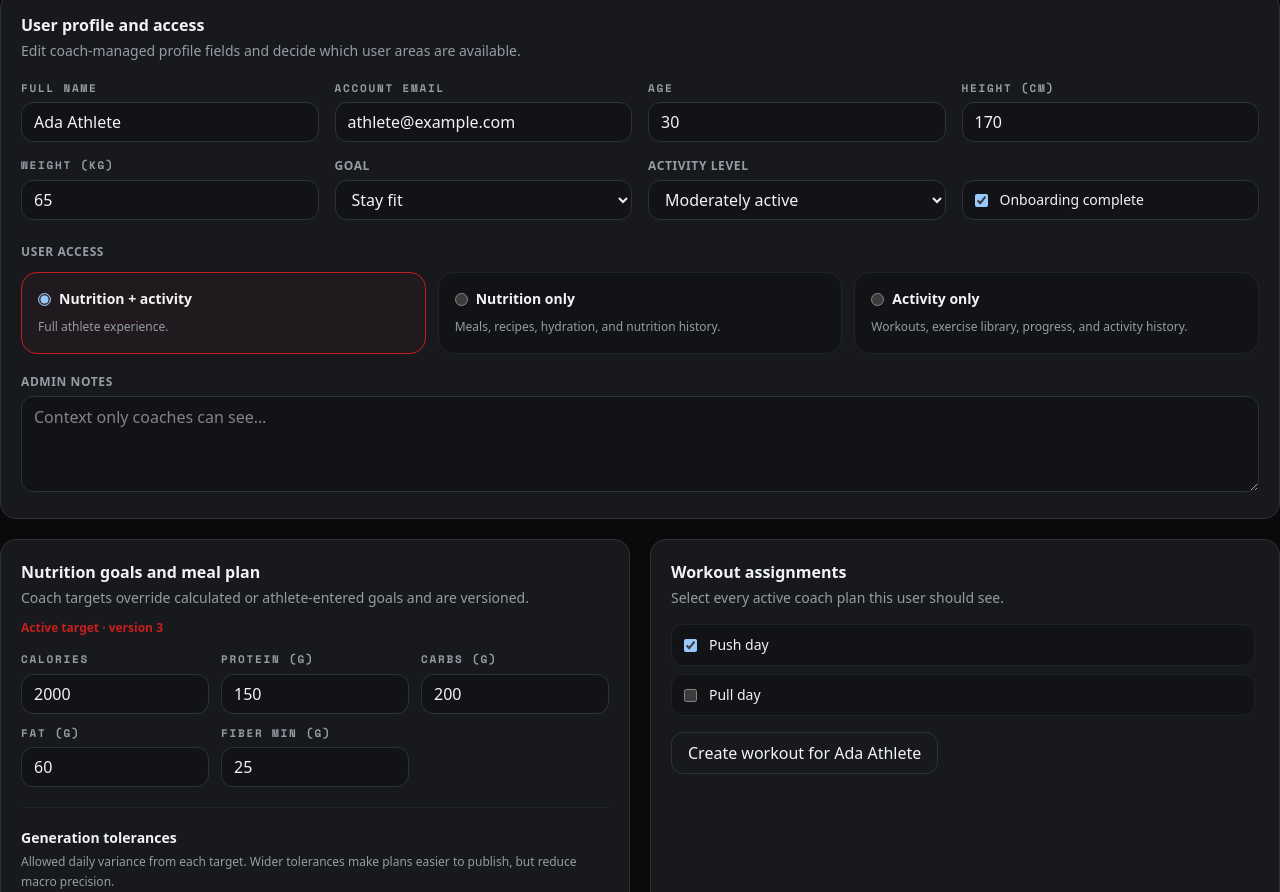
Test: AthleteManagementPanel › reports no dirty sections once every dirtied section has saved successfully
Replace the text in the field labelled "Full name" with "New Name": (170,122) [21,102,318,142]
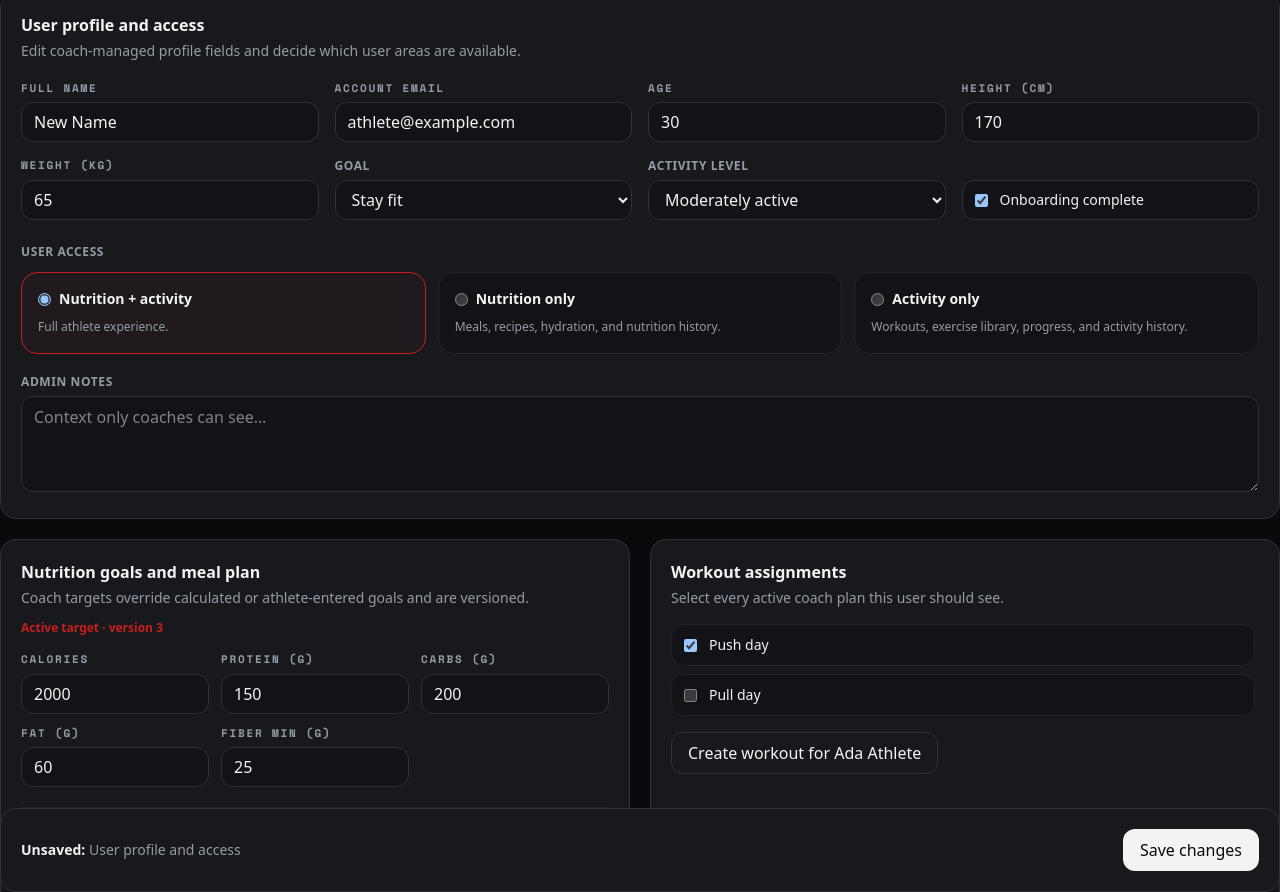
Replace the text in the number field labelled "Calories" with "2200": (115,694) [21,674,209,714]
(page scrolled)
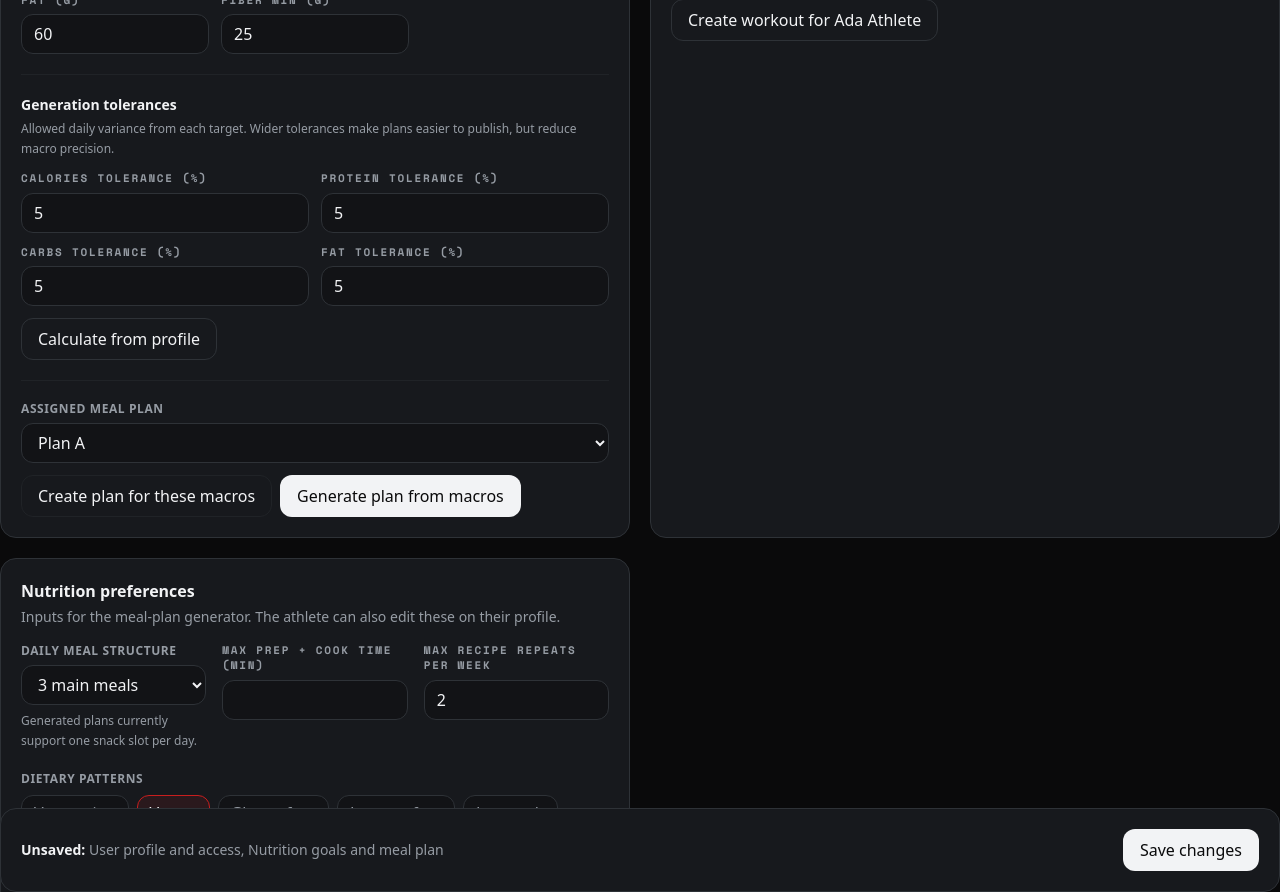
Select "Plan B" in the dropdown showing "Plan A": (315,443) [21,423,609,463]
(page scrolled)
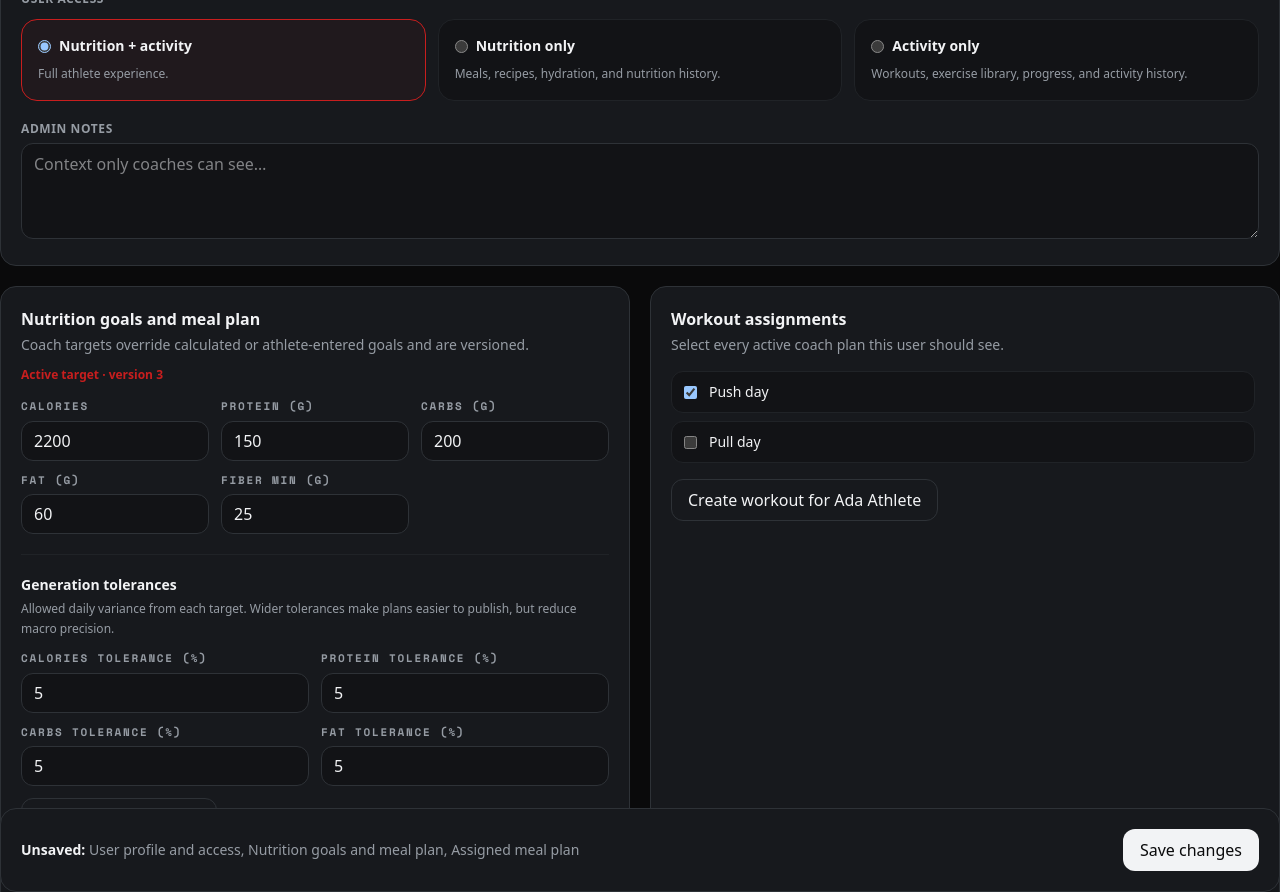
Click the checkbox labelled "Pull day": (690,442) [684,436,697,449]
(page scrolled)
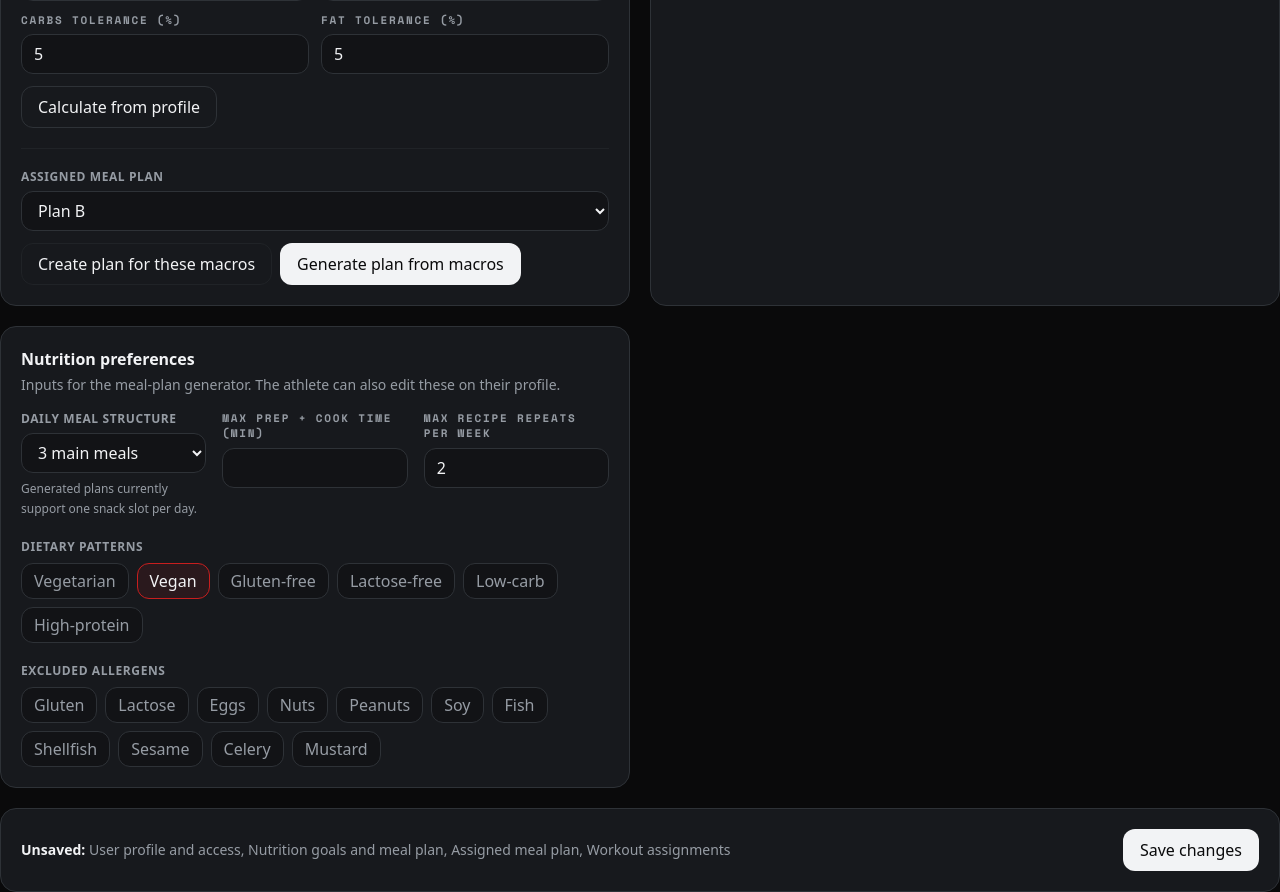
Replace the text in the number field labelled "Max recipe repeats per week" with "4": (516,468) [424,448,609,488]
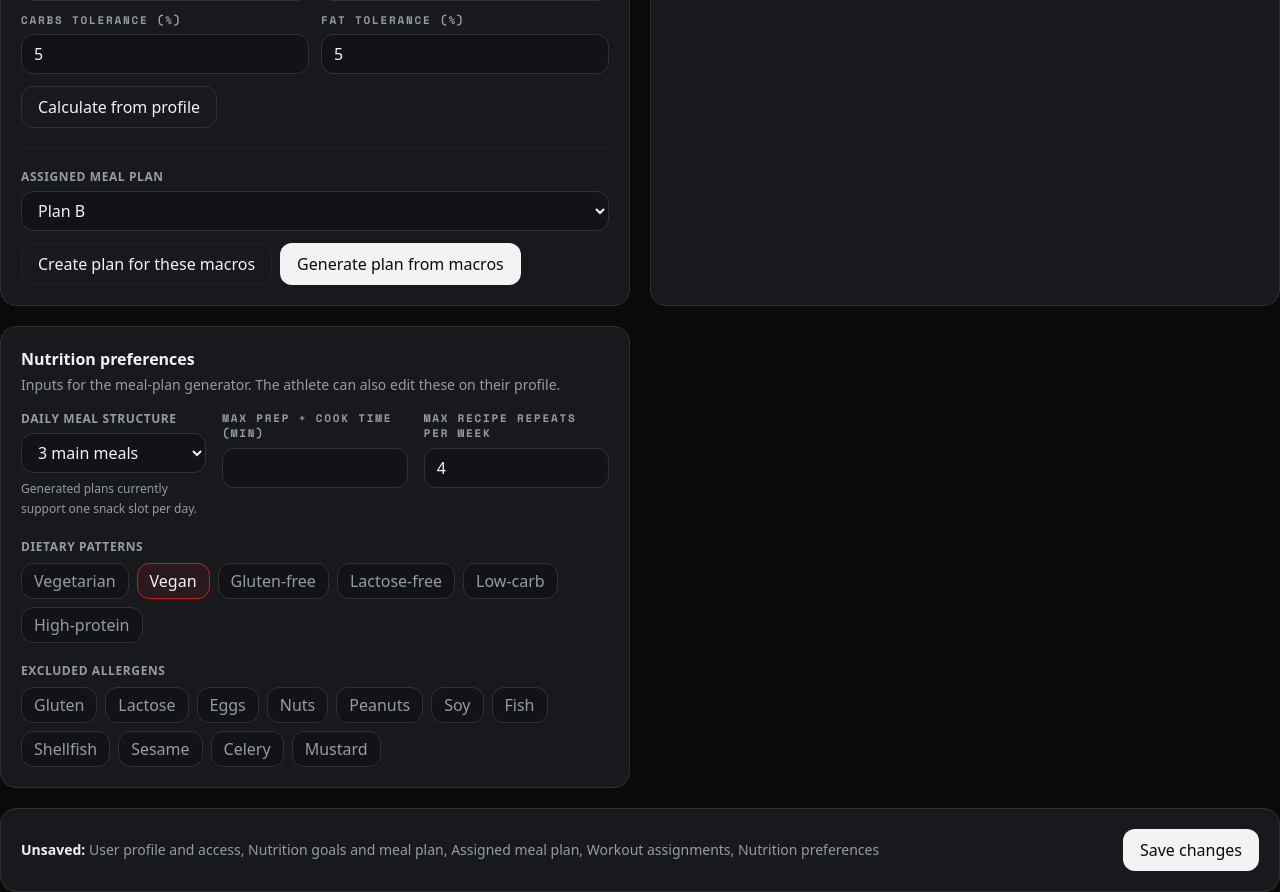
Result: the text "Unsaved:" shows "User profile and access" at [89,840,879,859]
Result: the text "Unsaved:" shows "Nutrition goals and meal plan" at [89,840,879,859]
Result: the text "Unsaved:" shows "Assigned meal plan" at [89,840,879,859]
Click the button "Save changes": (1191,850) [1123,829,1259,871]
(page scrolled)
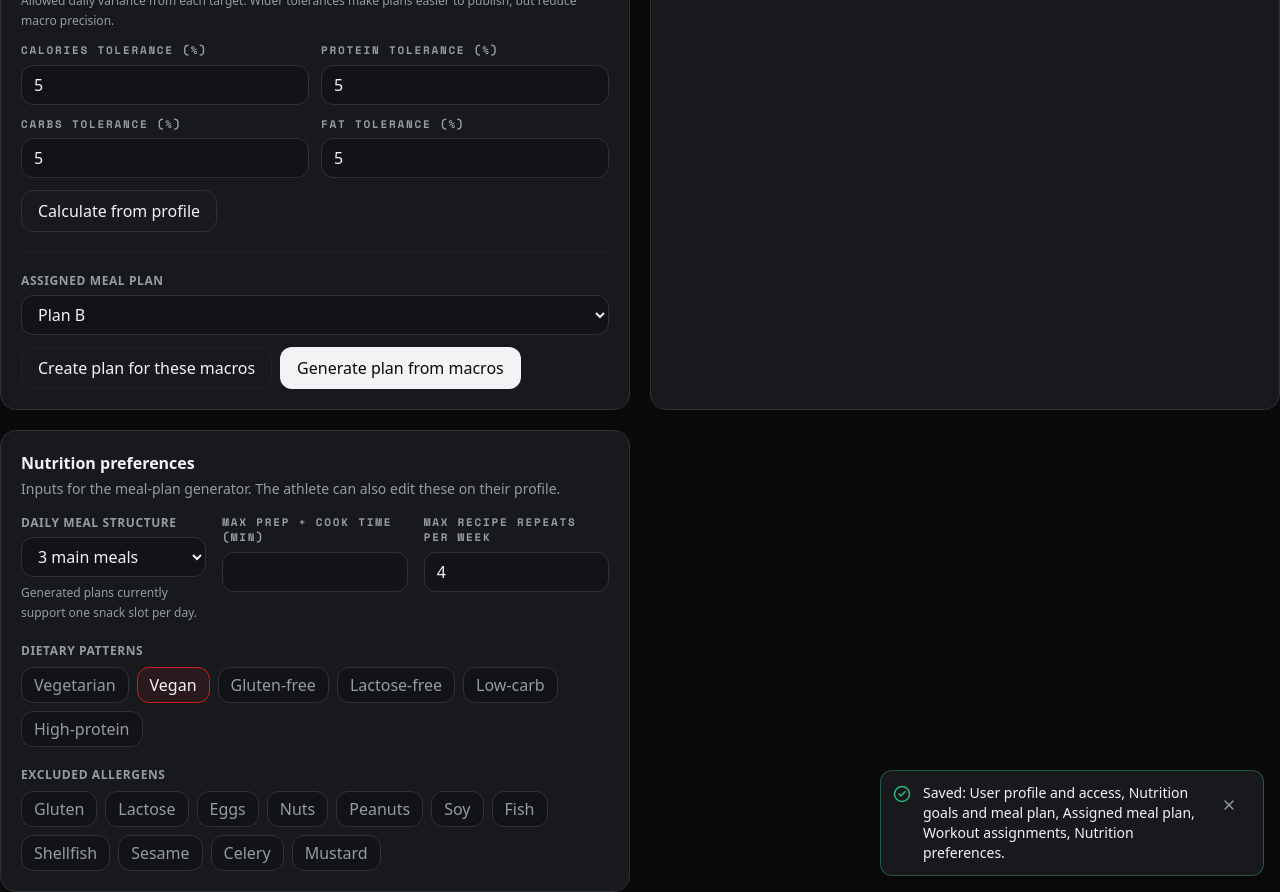
Result: the text "Unsaved:" is gone
Result: the button "Save changes" is gone
